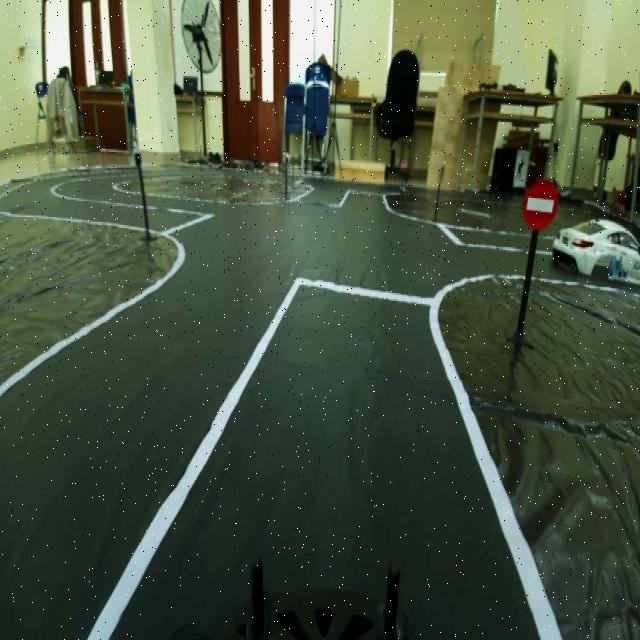no_entry: (514, 174, 554, 232)
